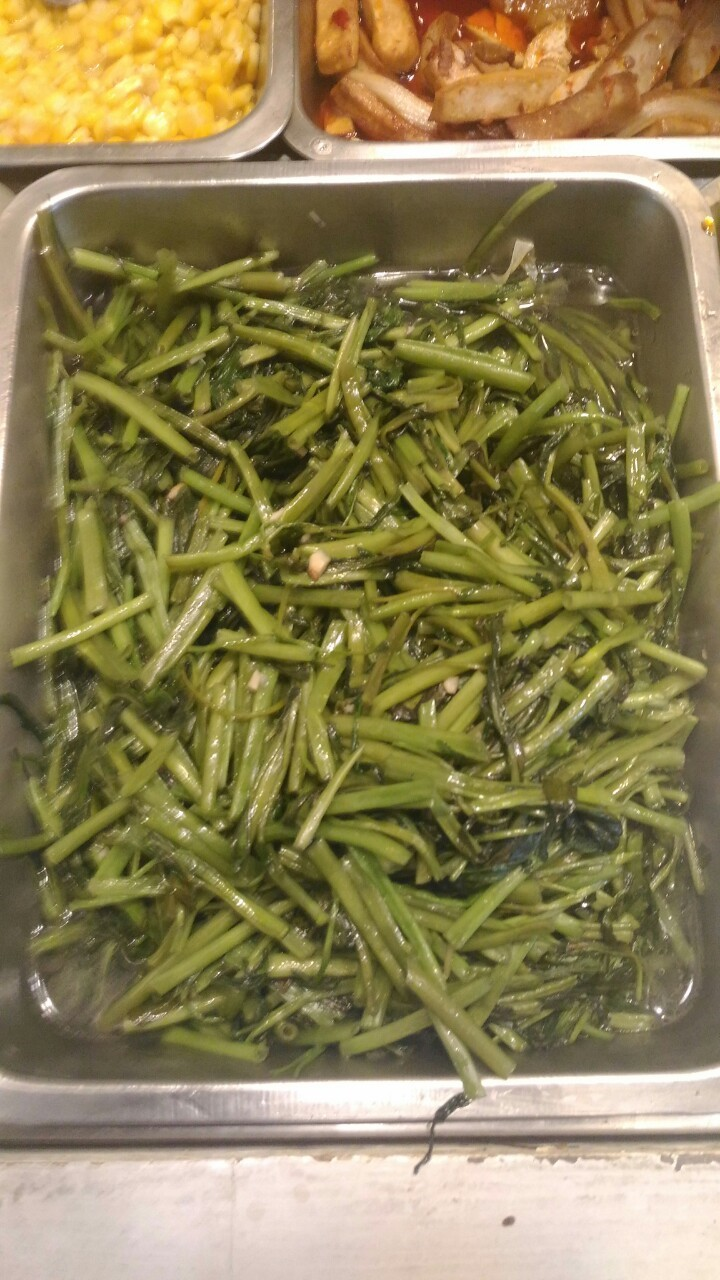water_spinach: (49, 235, 697, 1072)
